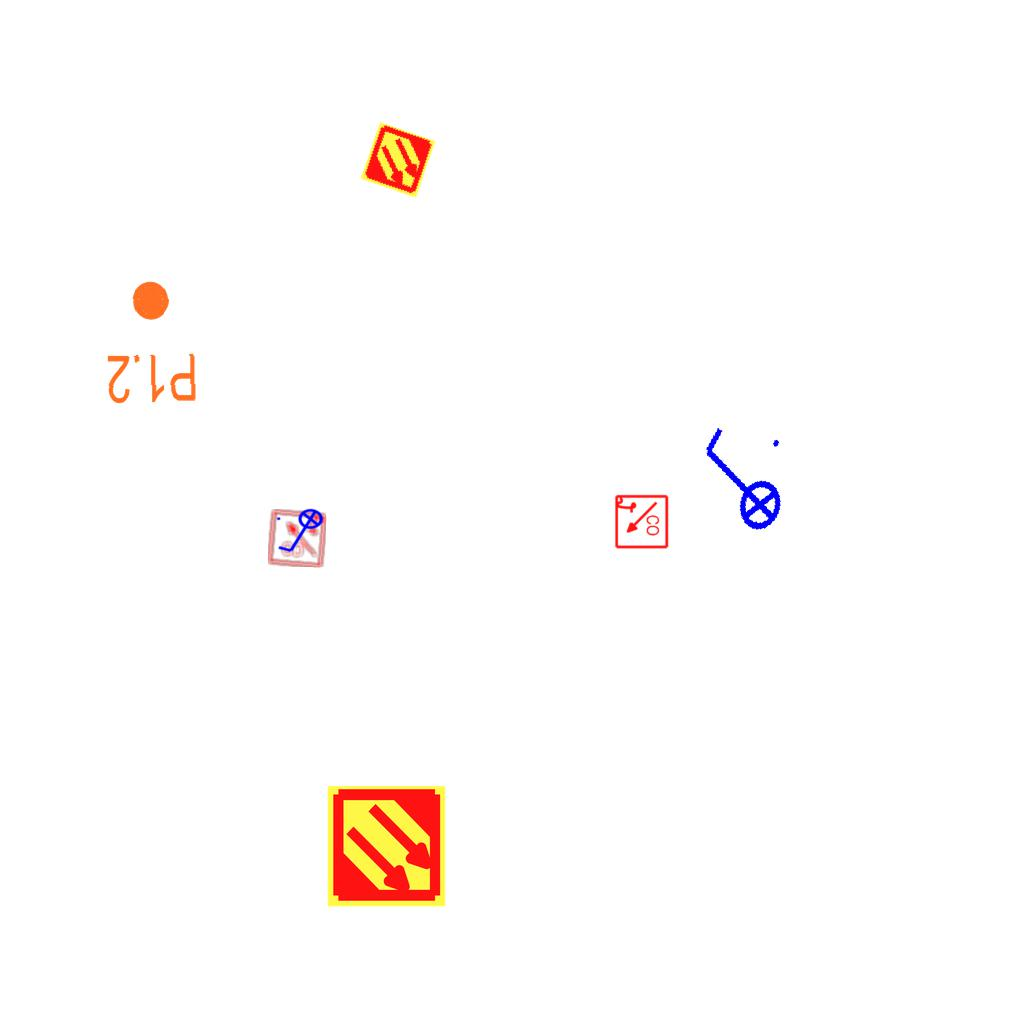ASR_Ansaugrauchmelder: (324, 784, 449, 909), (358, 120, 438, 200)
Ausschalter_beleuchtet: (678, 416, 800, 548), (274, 508, 330, 556)
Downlight_LED_Einbauleuchten_Flur: (101, 276, 200, 408)
ROA_Rauchmelder_optisch_mit_Signalgeber_(Sockelsirene): (266, 507, 328, 569), (613, 494, 669, 550)
